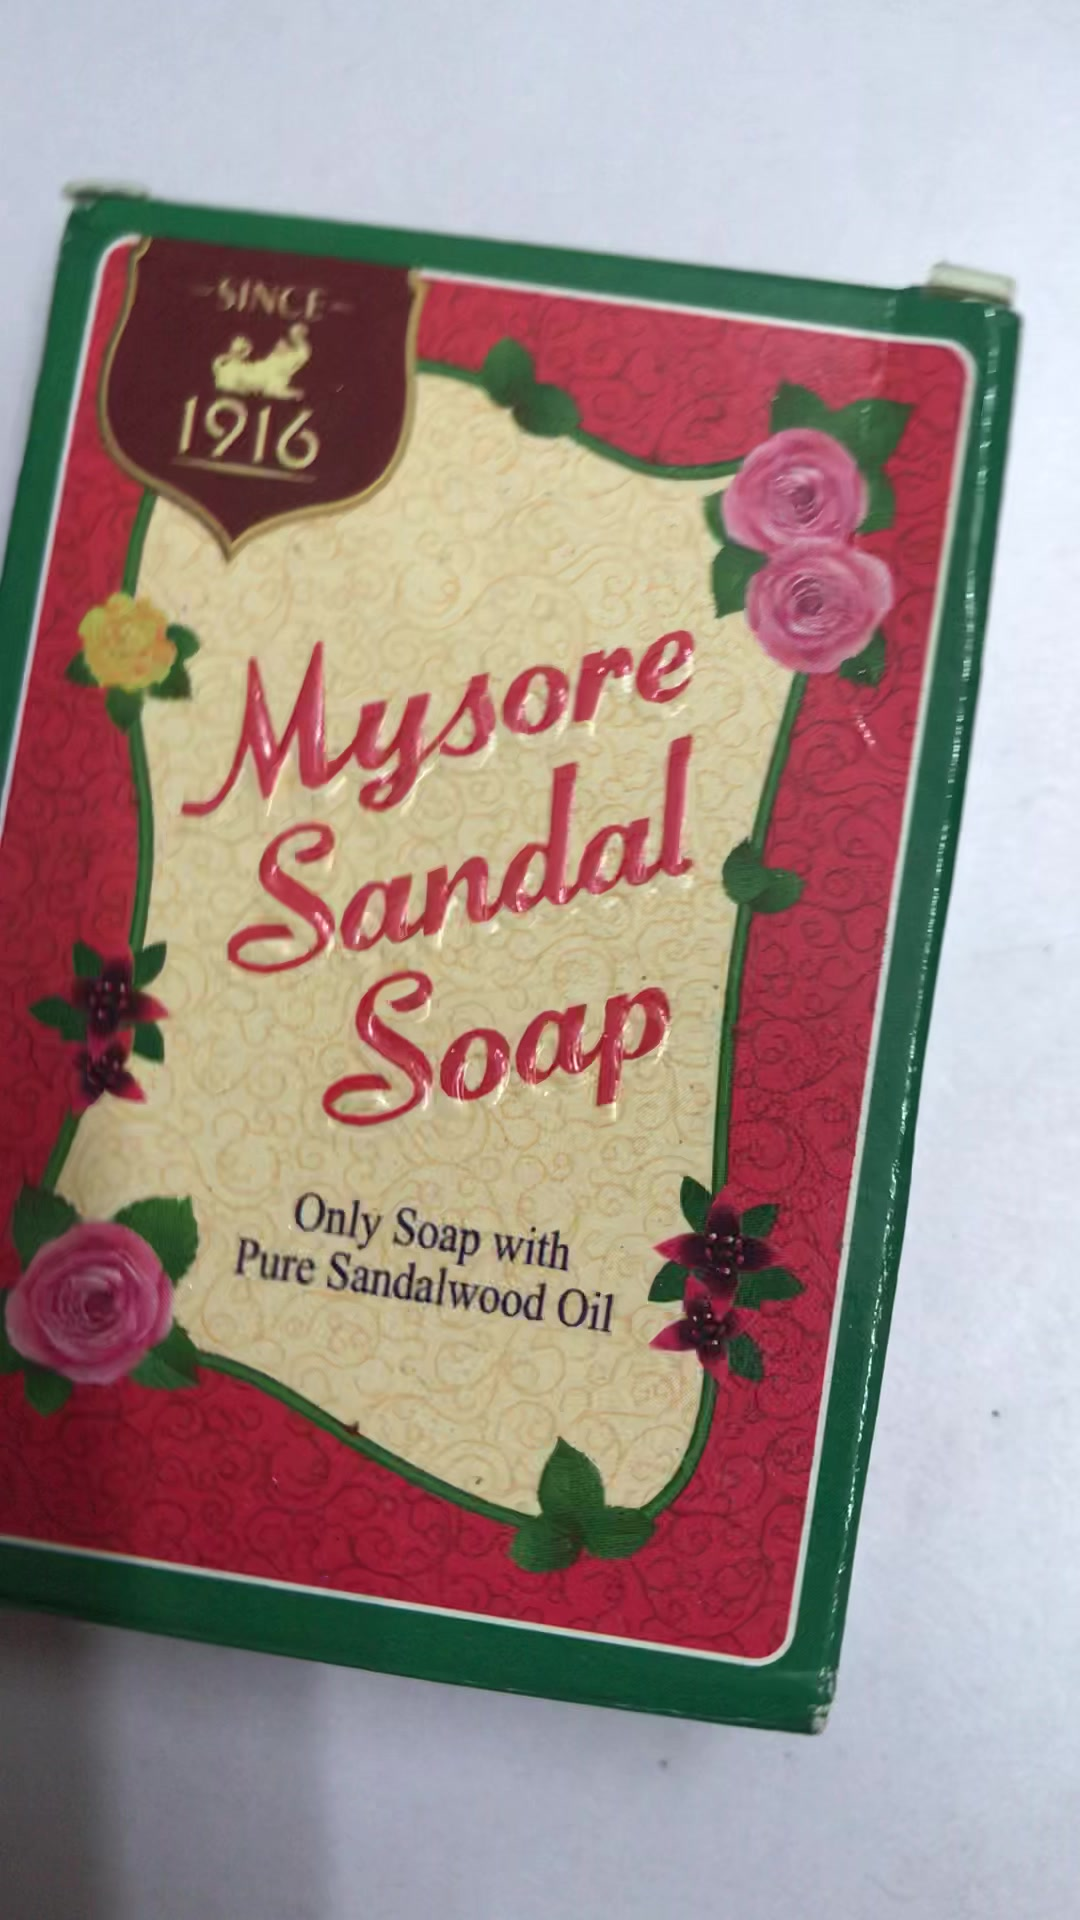mysore sandal soap: (1, 195, 1015, 1746)
